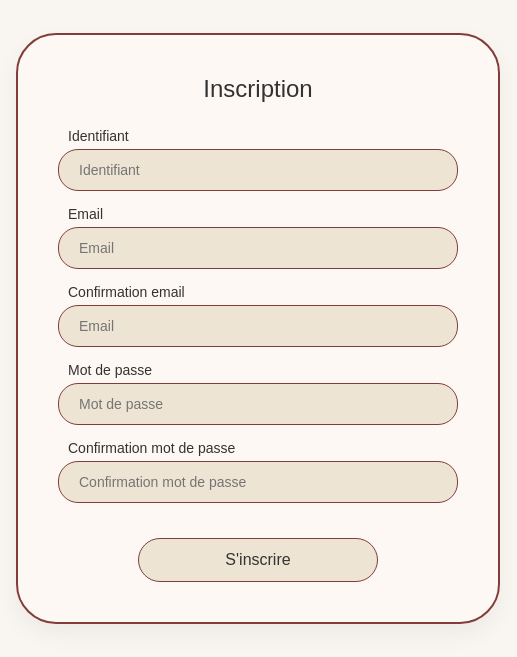
Scenario: Register › form with differents password
Type "password123" into the password field with placeholder "Mot de passe" at (258, 404), box [58, 382, 458, 424]
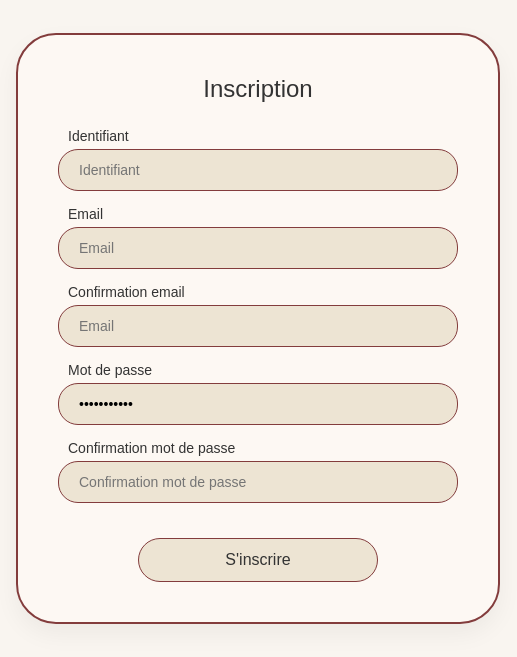
Type "autrechose" into the password field with id "confirmPassword" at (258, 482), box [58, 460, 458, 502]
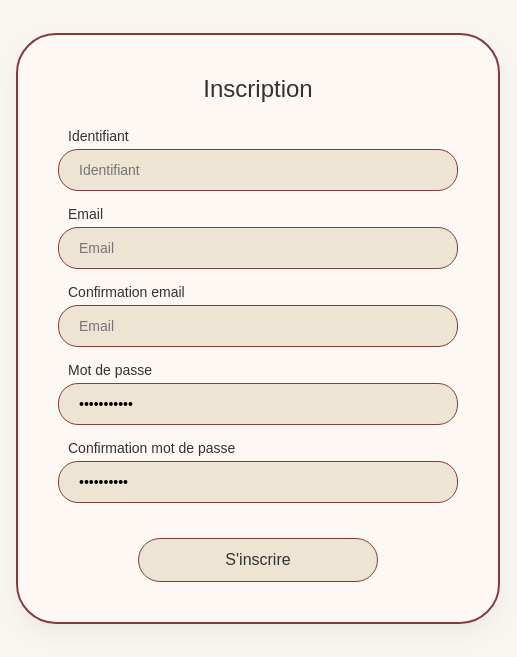
Submit the form
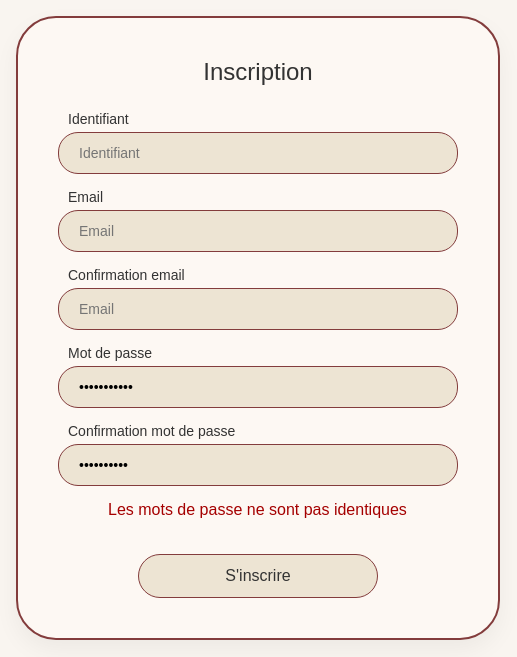
Now the text "Les mots de passe ne sont pas identiques" is shown, box [108, 501, 407, 518]
